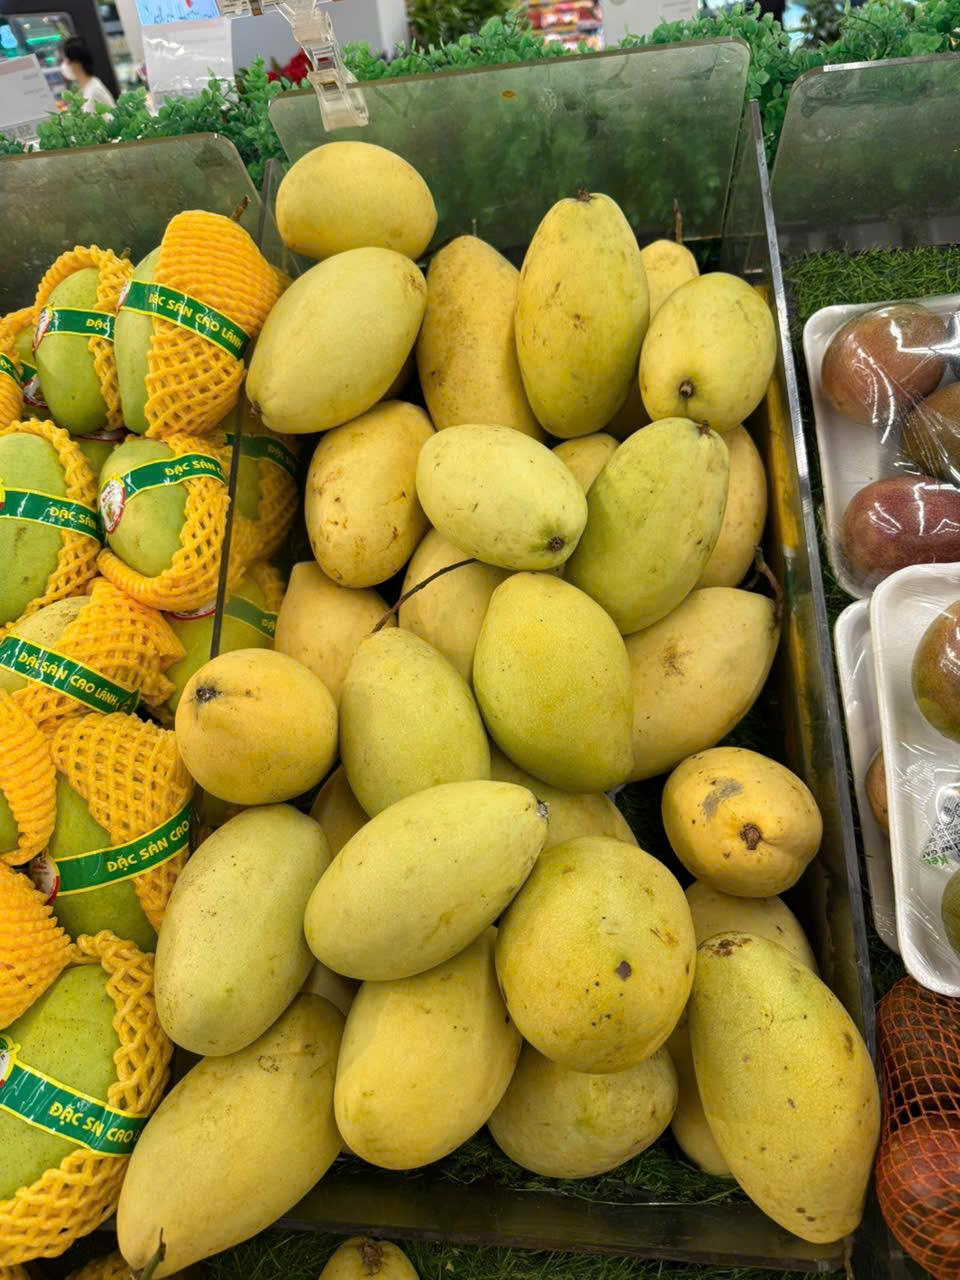mango: (690, 925, 880, 1260), (118, 1025, 336, 1270), (485, 838, 700, 1073), (301, 775, 556, 966), (137, 808, 312, 1056), (468, 568, 646, 804), (328, 971, 508, 1178), (510, 185, 650, 439), (573, 423, 726, 638), (240, 236, 408, 423), (650, 748, 832, 910), (290, 393, 428, 608), (419, 423, 596, 586), (165, 645, 336, 809), (270, 138, 450, 258), (645, 268, 781, 425), (350, 621, 474, 788), (650, 596, 776, 760), (419, 228, 520, 427)
